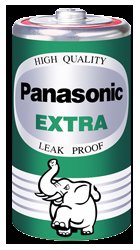Battery: (10, 6, 132, 242)
